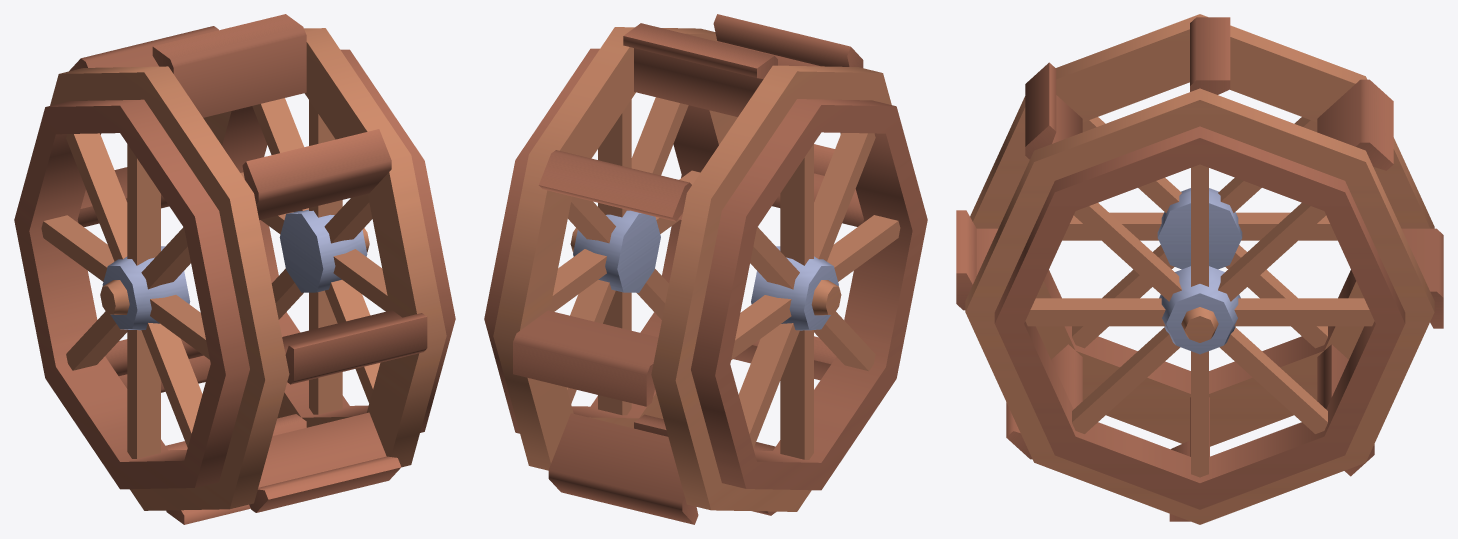
Rendered from watermill-wide.fbx.
The picture shows the model from 3 angles, left to right: view 1: azimuth 30°, elevation 25°; view 2: azimuth 150°, elevation 25°; view 3: azimuth 270°, elevation 25°; orthographic projection. The views are drawn at different scales.
Visible parts, largest first — view 1: watermill-wide; view 2: watermill-wide; view 3: watermill-wide.
Boxes of the visible parts, x1,y1,x2,y2 form: watermill-wide: (14,14,455,524); watermill-wide: (484,14,927,524); watermill-wide: (956,14,1443,524).
Bounding box in the file's own units: 105 × 180 × 180.
Materials: 1 (1 with a texture image).
